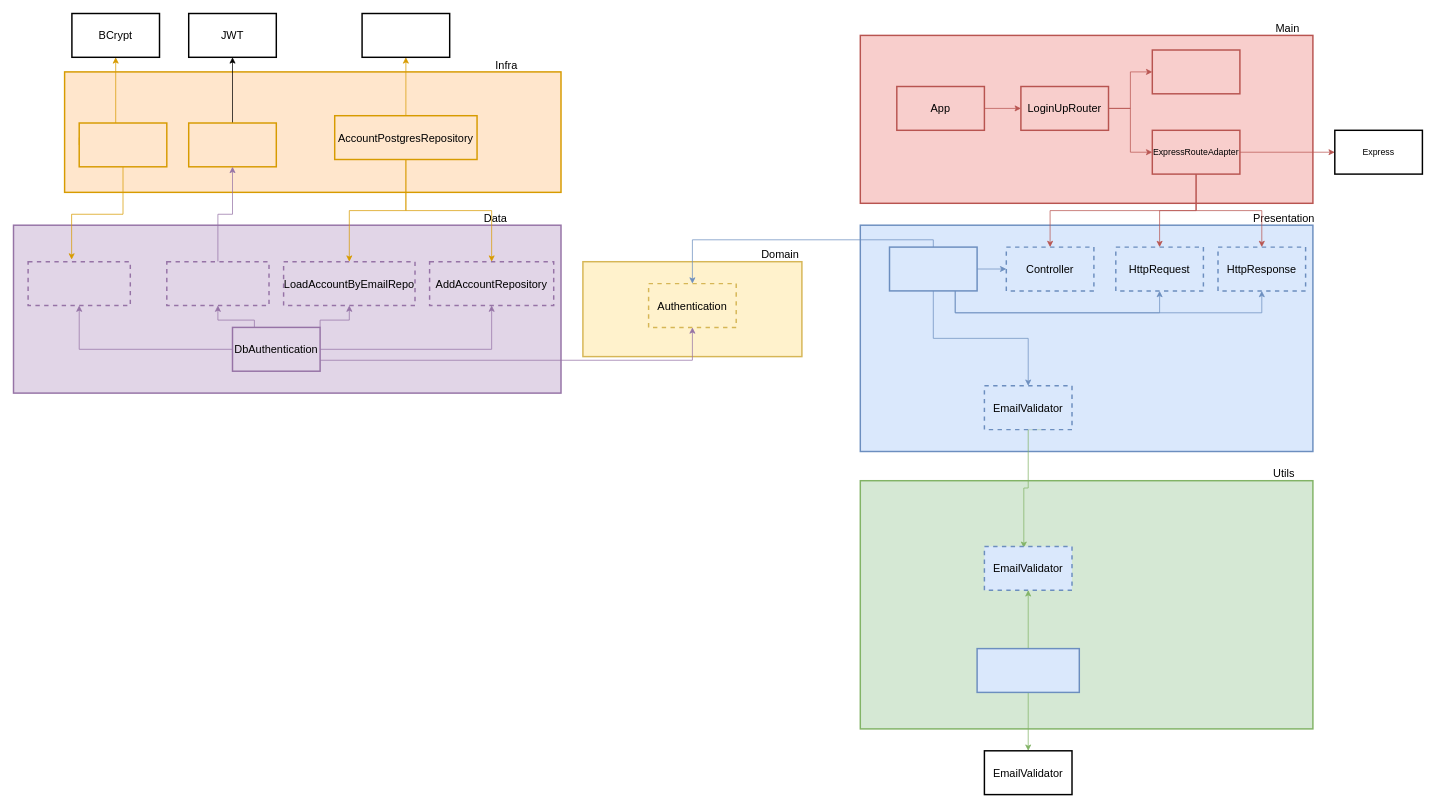
Image size: 1435x807. Some labels were removed from this diagram. The shapes that lost their labels are listed below. From the top down, each one's centre as x and y in pixels, then its label:
At pixel 405 35: "PostgreSQL".
At pixel 1195 71: "LoginUpFactory".
At pixel 122 144: "BcryptAdapter".
At pixel 232 144: "JwtAdapter".
At pixel 79 283: "Encrytper".
At pixel 217 283: "TokenGenerator".
At pixel 932 268: "LoginController".
At pixel 1028 670: "EmailValidatorAdapter".
